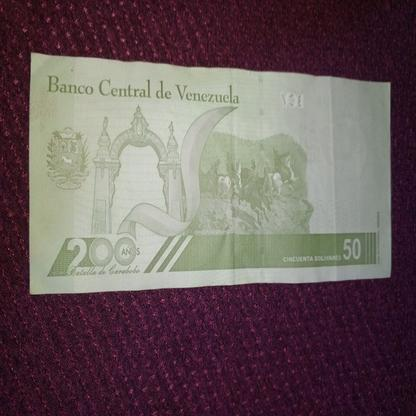fifty-back-vef: (28, 52, 392, 295)
